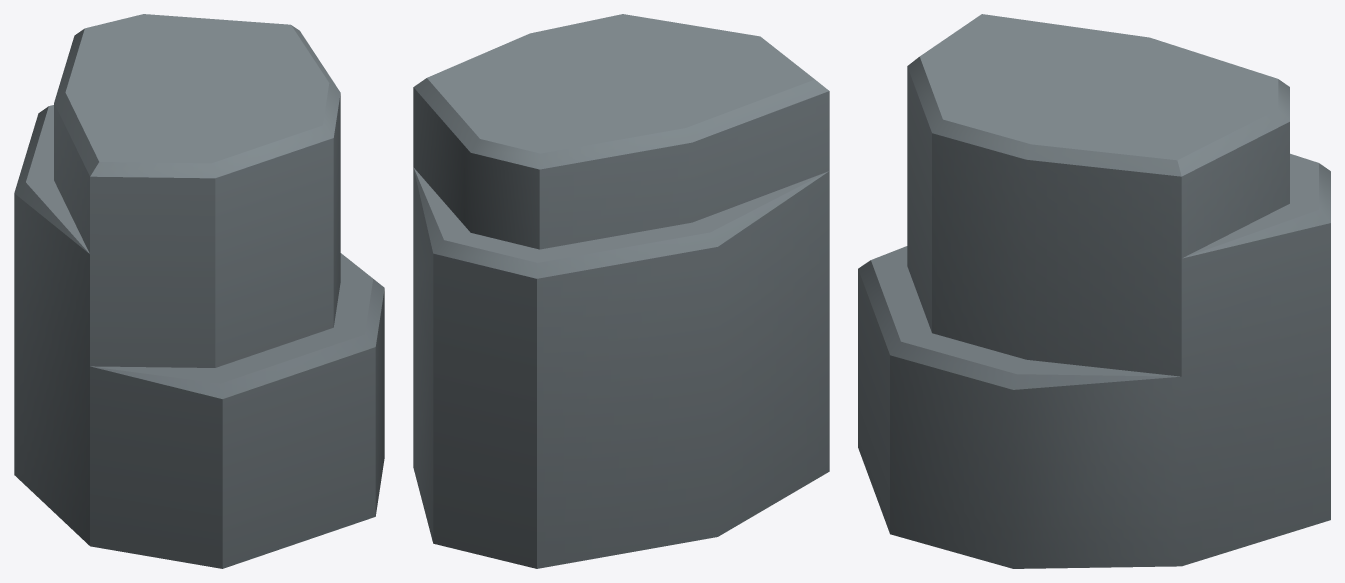
Rendered from Rock_1_I_Color1.fbx.
3 renders of one model, left to right at view 1: azimuth 30°, elevation 25°; view 2: azimuth 150°, elevation 25°; view 3: azimuth 270°, elevation 25°, orthographic. The views are drawn at different scales.
Visible parts, largest first — view 1: Rock_1_I_Color1; view 2: Rock_1_I_Color1; view 3: Rock_1_I_Color1.
Boxes of the visible parts, left/top/right/bottom form: Rock_1_I_Color1: left=14, top=14, right=384, bottom=568; Rock_1_I_Color1: left=413, top=14, right=829, bottom=568; Rock_1_I_Color1: left=858, top=14, right=1330, bottom=568.
Size of the model in its own units: 1.61 by 1.87 by 2.
